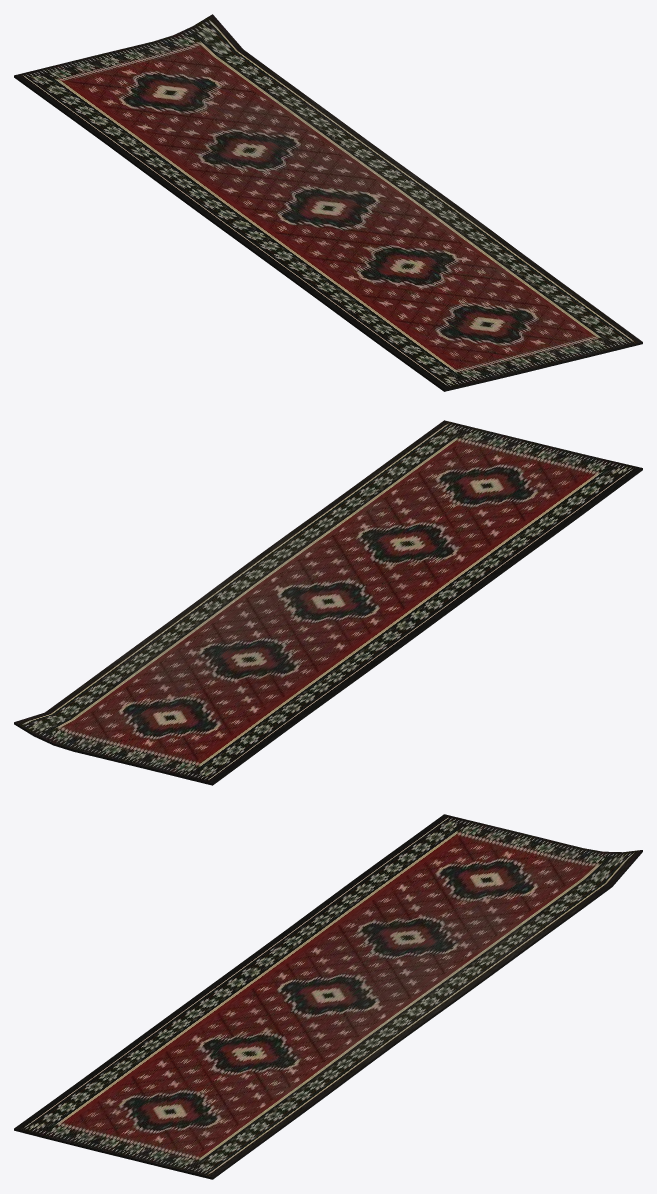
Rendered from carpet_runner_lod1_web.glb.
3 views of the same model, one above another, from view 1: azimuth 30°, elevation 25°; view 2: azimuth 150°, elevation 25°; view 3: azimuth 330°, elevation 25° (orthographic).
Parts seen in each view (by area): view 1: CarpetRunner_Body; view 2: CarpetRunner_Body; view 3: CarpetRunner_Body.
Boxes of the visible parts, left/top/right/bottom form: CarpetRunner_Body: left=14, top=14, right=642, bottom=391; CarpetRunner_Body: left=14, top=420, right=642, bottom=785; CarpetRunner_Body: left=14, top=814, right=642, bottom=1179.
Size of the model in its own units: 0.8 by 0.058 by 3.
1 material, 1 textured.
